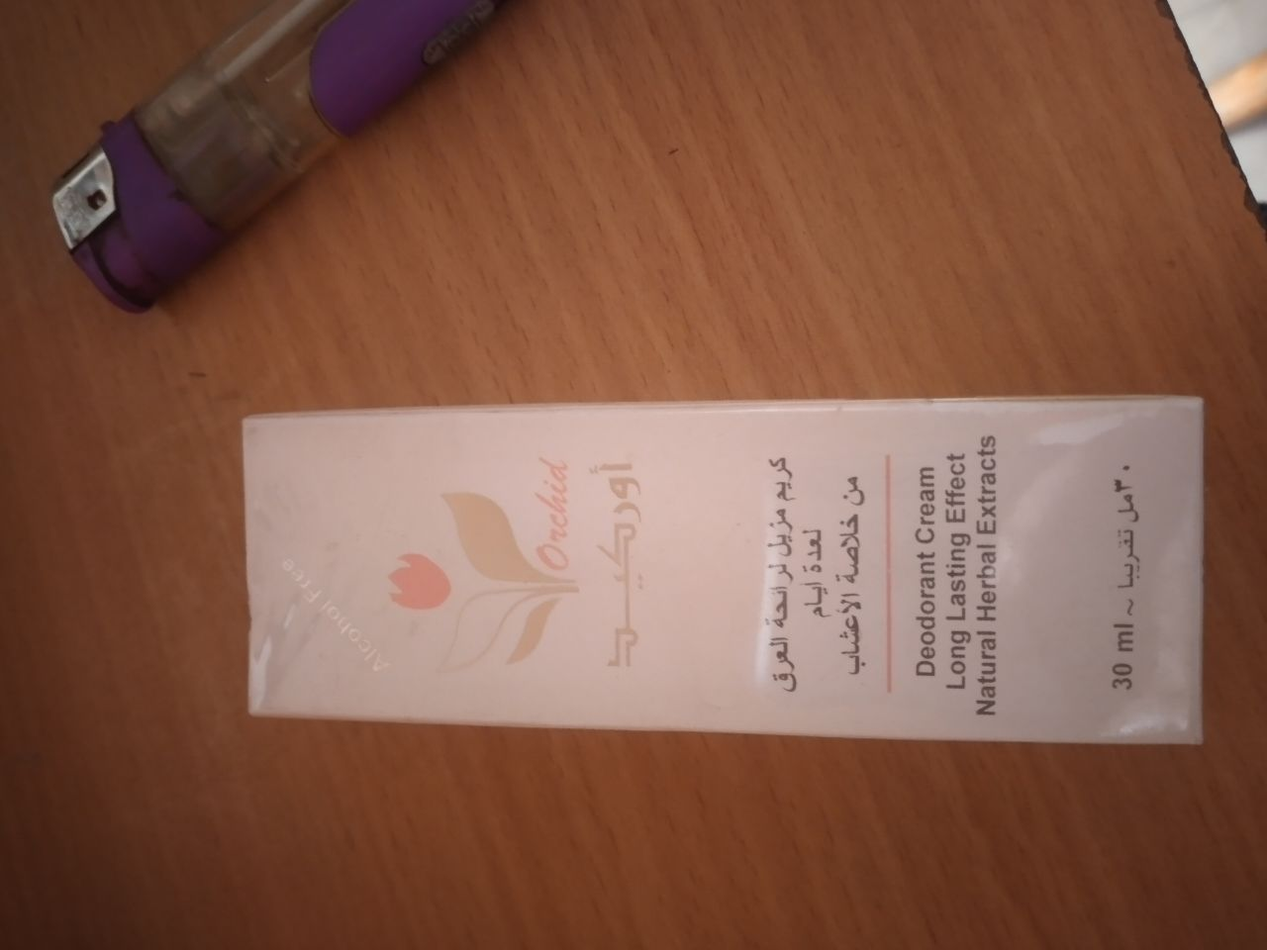Medicine: (228, 393, 1225, 755)
